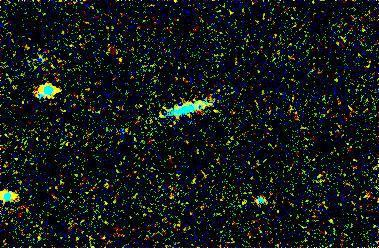star: (201, 93, 231, 123)
